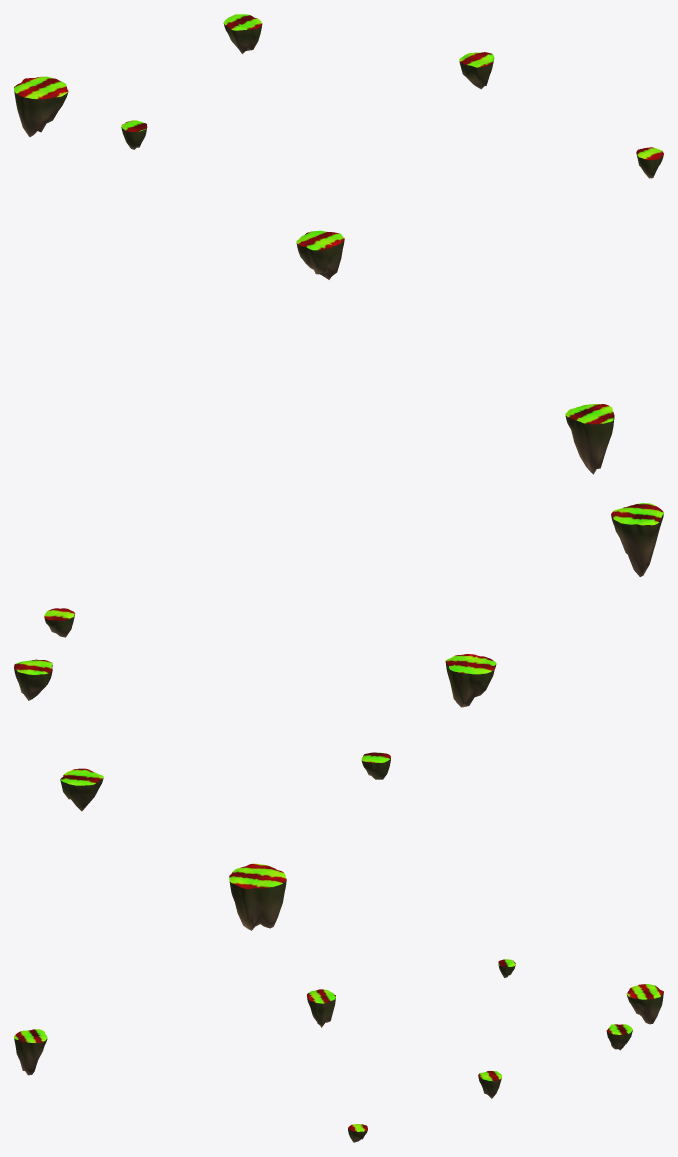
Rendered from SM_H04_Floaters.fbx.
The picture shows the model from 3 angles, top to bottom: view 1: azimuth 30°, elevation 25°; view 2: azimuth 150°, elevation 25°; view 3: azimuth 270°, elevation 25°; orthographic projection. The views are drawn at different scales.
Visible parts, largest first — view 1: SM_H04_Floaters; view 2: SM_H04_Floaters; view 3: SM_H04_Floaters.
Part boxes in pixels (x1=…): SM_H04_Floaters: x1=14, y1=14, x2=663, y2=474; SM_H04_Floaters: x1=14, y1=503, x2=663, y2=930; SM_H04_Floaters: x1=14, y1=959, x2=663, y2=1142.
Size of the model in its own units: 266 by 68.19 by 512.
